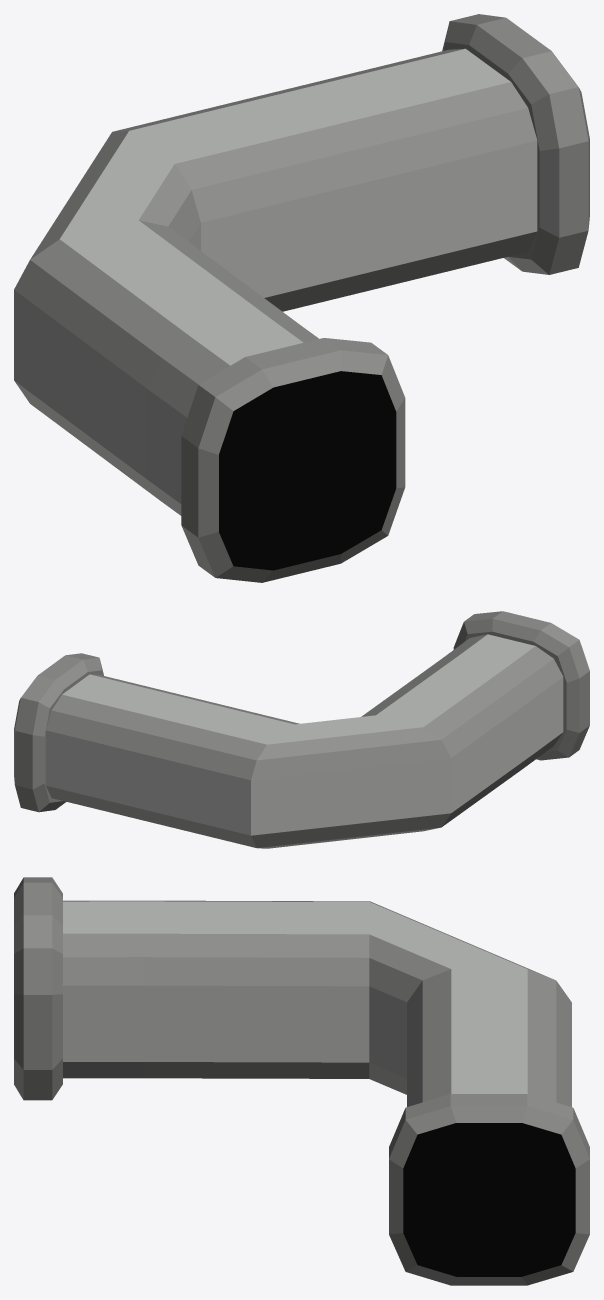
File: PIPE_CORNER_LEFT.fbx
The picture shows the model from 3 angles, top to bottom: view 1: azimuth 30°, elevation 25°; view 2: azimuth 150°, elevation 25°; view 3: azimuth 270°, elevation 25°; orthographic projection. The views are drawn at different scales.
Parts seen in each view (by area): view 1: polySurface8; view 2: polySurface8; view 3: polySurface8.
Boxes of the visible parts, bbox=[...] form: polySurface8: bbox=[14, 14, 589, 582]; polySurface8: bbox=[14, 611, 589, 848]; polySurface8: bbox=[14, 877, 589, 1285].
Size of the model in its own units: 7.68 by 2.54 by 7.38.
